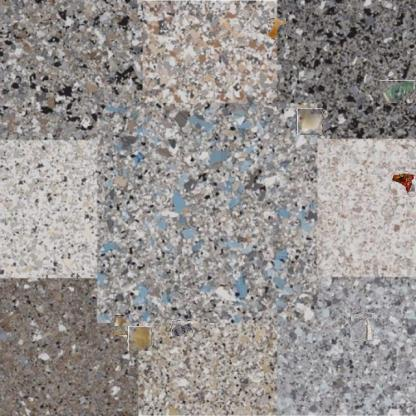dirty: (380, 80, 416, 103), (350, 313, 374, 341), (297, 109, 322, 134), (391, 172, 416, 196), (115, 314, 137, 337), (171, 320, 193, 336)
liquid: (127, 326, 152, 351), (268, 18, 286, 38)
